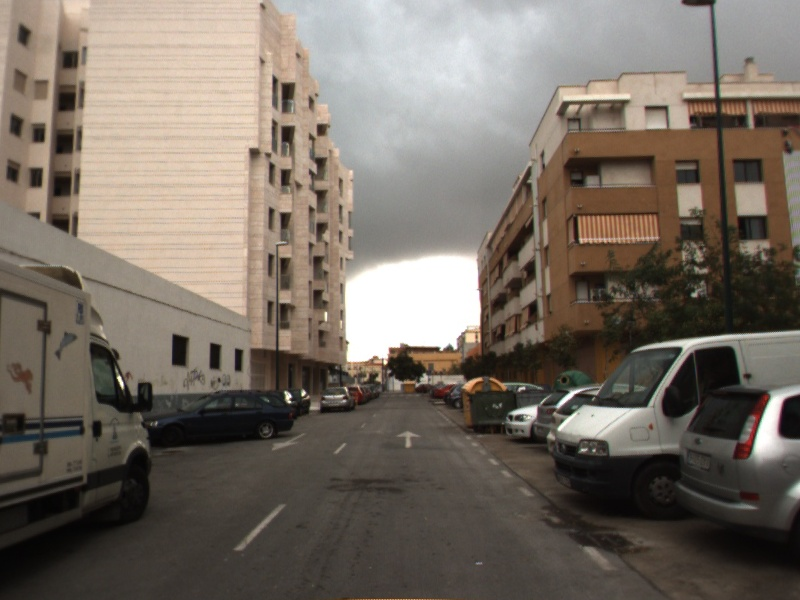STRAIGHT: (393, 428, 424, 451)
